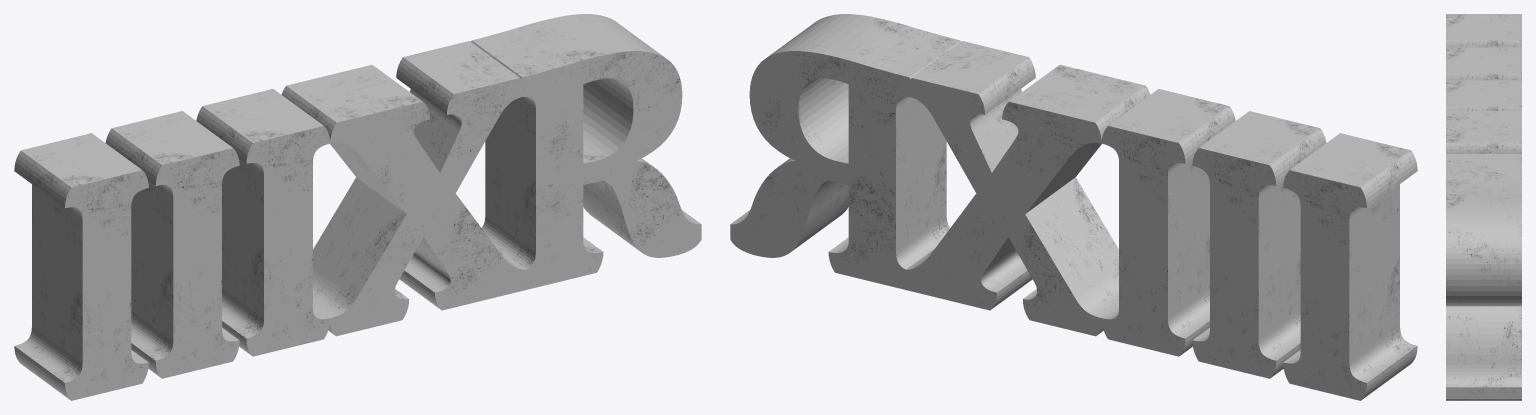
The model's file is iiixr.glb.
3 views of the same model, side by side, from view 1: azimuth 30°, elevation 25°; view 2: azimuth 150°, elevation 25°; view 3: azimuth 270°, elevation 25° (orthographic). The views are drawn at different scales.
Visible parts, largest first — view 1: 3D Text - I (×3), 3D Text - X, 3D Text - R; view 2: 3D Text - I (×3), 3D Text - X, 3D Text - R; view 3: 3D Text - R, 3D Text - I (×3), 3D Text - X.
Boxes of the visible parts, left/top/right/bottom form: 3D Text - I (×3): left=14, top=89, right=330, bottom=400; 3D Text - X: left=281, top=41, right=532, bottom=336; 3D Text - R: left=471, top=14, right=701, bottom=289; 3D Text - I (×3): left=1101, top=89, right=1417, bottom=400; 3D Text - X: left=899, top=41, right=1150, bottom=336; 3D Text - R: left=730, top=14, right=960, bottom=289; 3D Text - R: left=1446, top=179, right=1521, bottom=400; 3D Text - I (×3): left=1446, top=14, right=1521, bottom=110; 3D Text - X: left=1446, top=111, right=1521, bottom=178.
Bounding box in the file's own units: 0.1089 × 0.0356 × 0.015.
1 material, 1 textured.
